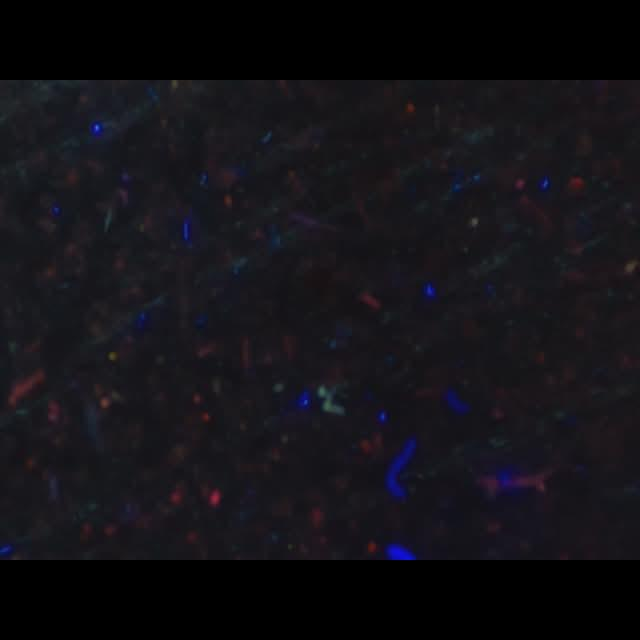Fibre: (318, 387, 344, 418)
